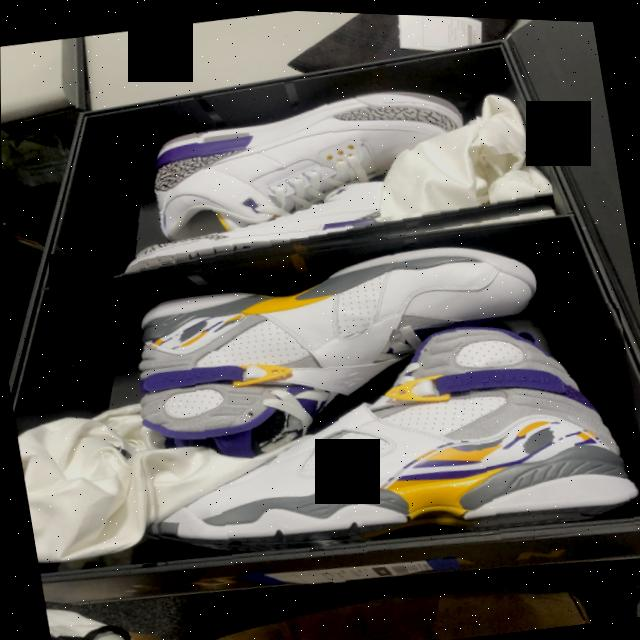shoe: (120, 281, 640, 600), (112, 216, 569, 488), (95, 132, 560, 299), (123, 61, 490, 255)
